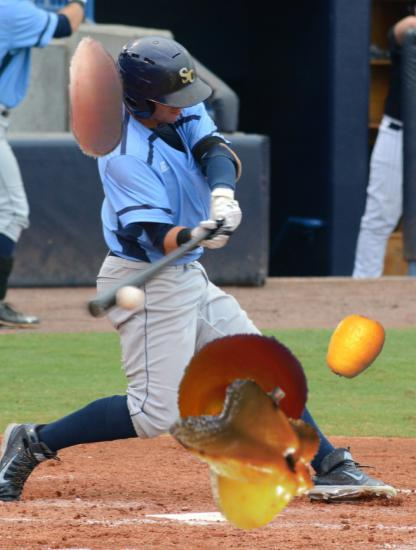Carambula: (176, 376, 326, 526)
Hazelnut: (34, 35, 159, 160)
Kumquats: (321, 312, 389, 380)
Tangelo: (175, 329, 312, 466)
